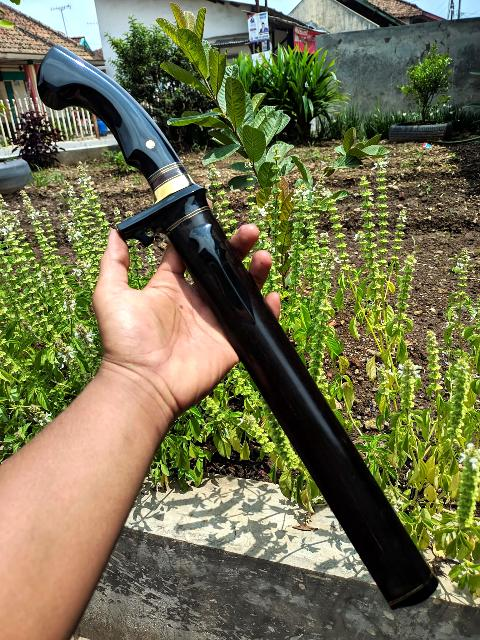long knife: (37, 43, 439, 613)
